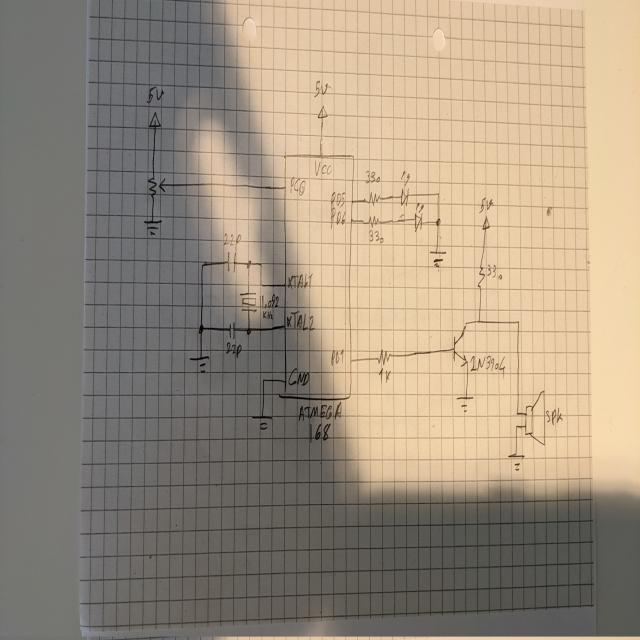capacitor: (226, 250, 237, 274), (228, 320, 235, 338)
diode: (400, 171, 410, 209), (413, 200, 423, 231)
ground: (189, 354, 210, 374), (251, 413, 273, 431), (429, 247, 446, 269), (143, 217, 162, 236), (508, 452, 525, 471), (457, 395, 472, 412)
junction: (198, 322, 205, 335), (434, 216, 440, 226), (514, 408, 520, 418), (260, 375, 266, 384), (246, 258, 251, 268), (246, 325, 251, 335), (514, 421, 519, 431), (200, 260, 205, 269), (258, 260, 263, 268), (476, 317, 481, 324), (259, 280, 263, 288), (516, 318, 520, 325), (436, 190, 440, 197)
resistor: (147, 169, 166, 200), (476, 260, 485, 290), (377, 349, 390, 367), (366, 190, 380, 206), (367, 214, 381, 228)
source: (148, 110, 162, 128), (317, 104, 328, 120), (480, 215, 491, 231)
text: (297, 402, 342, 422), (468, 354, 506, 376), (287, 310, 316, 332), (306, 417, 332, 441), (259, 292, 279, 321), (287, 367, 309, 388), (287, 272, 312, 290), (146, 84, 164, 105), (223, 232, 241, 252), (330, 206, 346, 227), (224, 340, 242, 358), (546, 406, 562, 426), (290, 175, 305, 195), (314, 160, 332, 176), (314, 79, 330, 97), (478, 196, 494, 213), (330, 190, 345, 208), (487, 263, 502, 280), (330, 347, 344, 365), (364, 169, 380, 184), (368, 229, 383, 243), (379, 366, 391, 383)
transistor: (452, 320, 468, 367)
